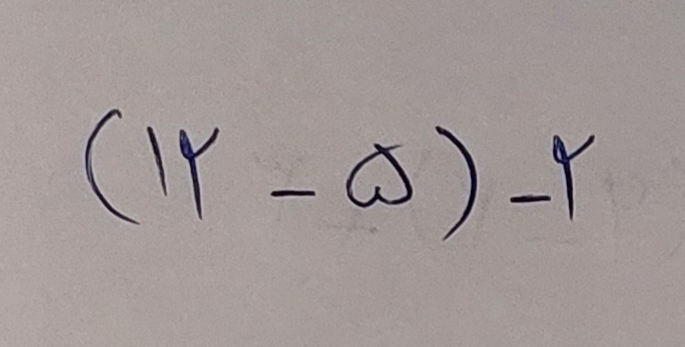character: (82, 106, 142, 228), (431, 125, 480, 244), (346, 141, 415, 209), (551, 131, 598, 224), (175, 128, 218, 221), (144, 125, 170, 198), (508, 190, 554, 206), (267, 188, 317, 201)
